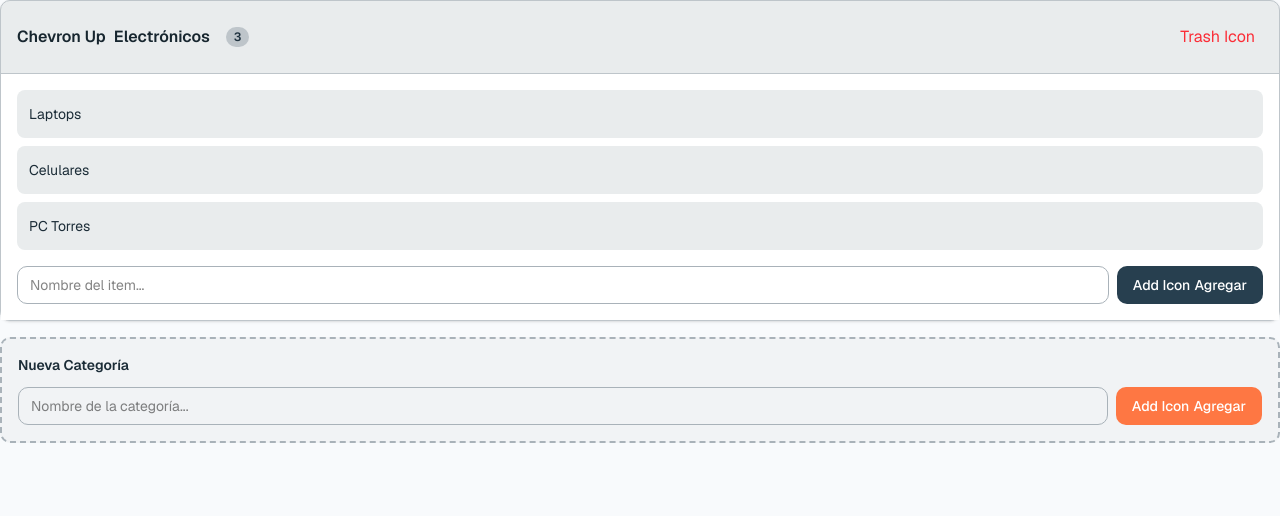
Scenario: CategoryManager Component › Item Management › should add item on Enter key press
In the field with placeholder "Nombre del item...": (563, 285) [17,266,1109,304], type "Smartwatches"
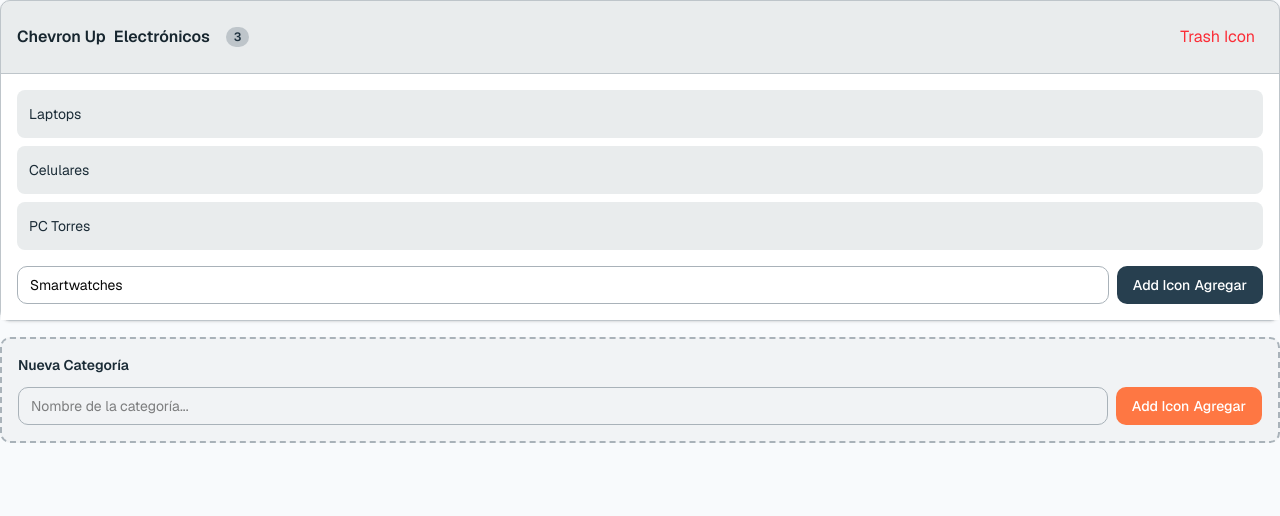
Press Enter in the field with placeholder "Nombre del item...", box [17,266,1109,304]
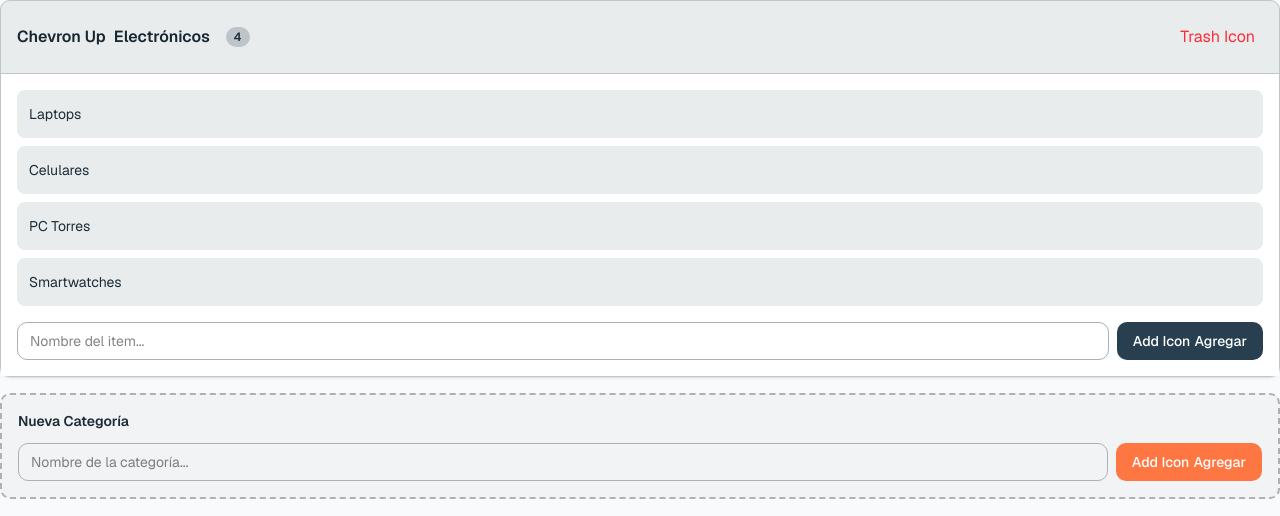
Check: the text "Smartwatches" is shown, box [29,272,122,292]
